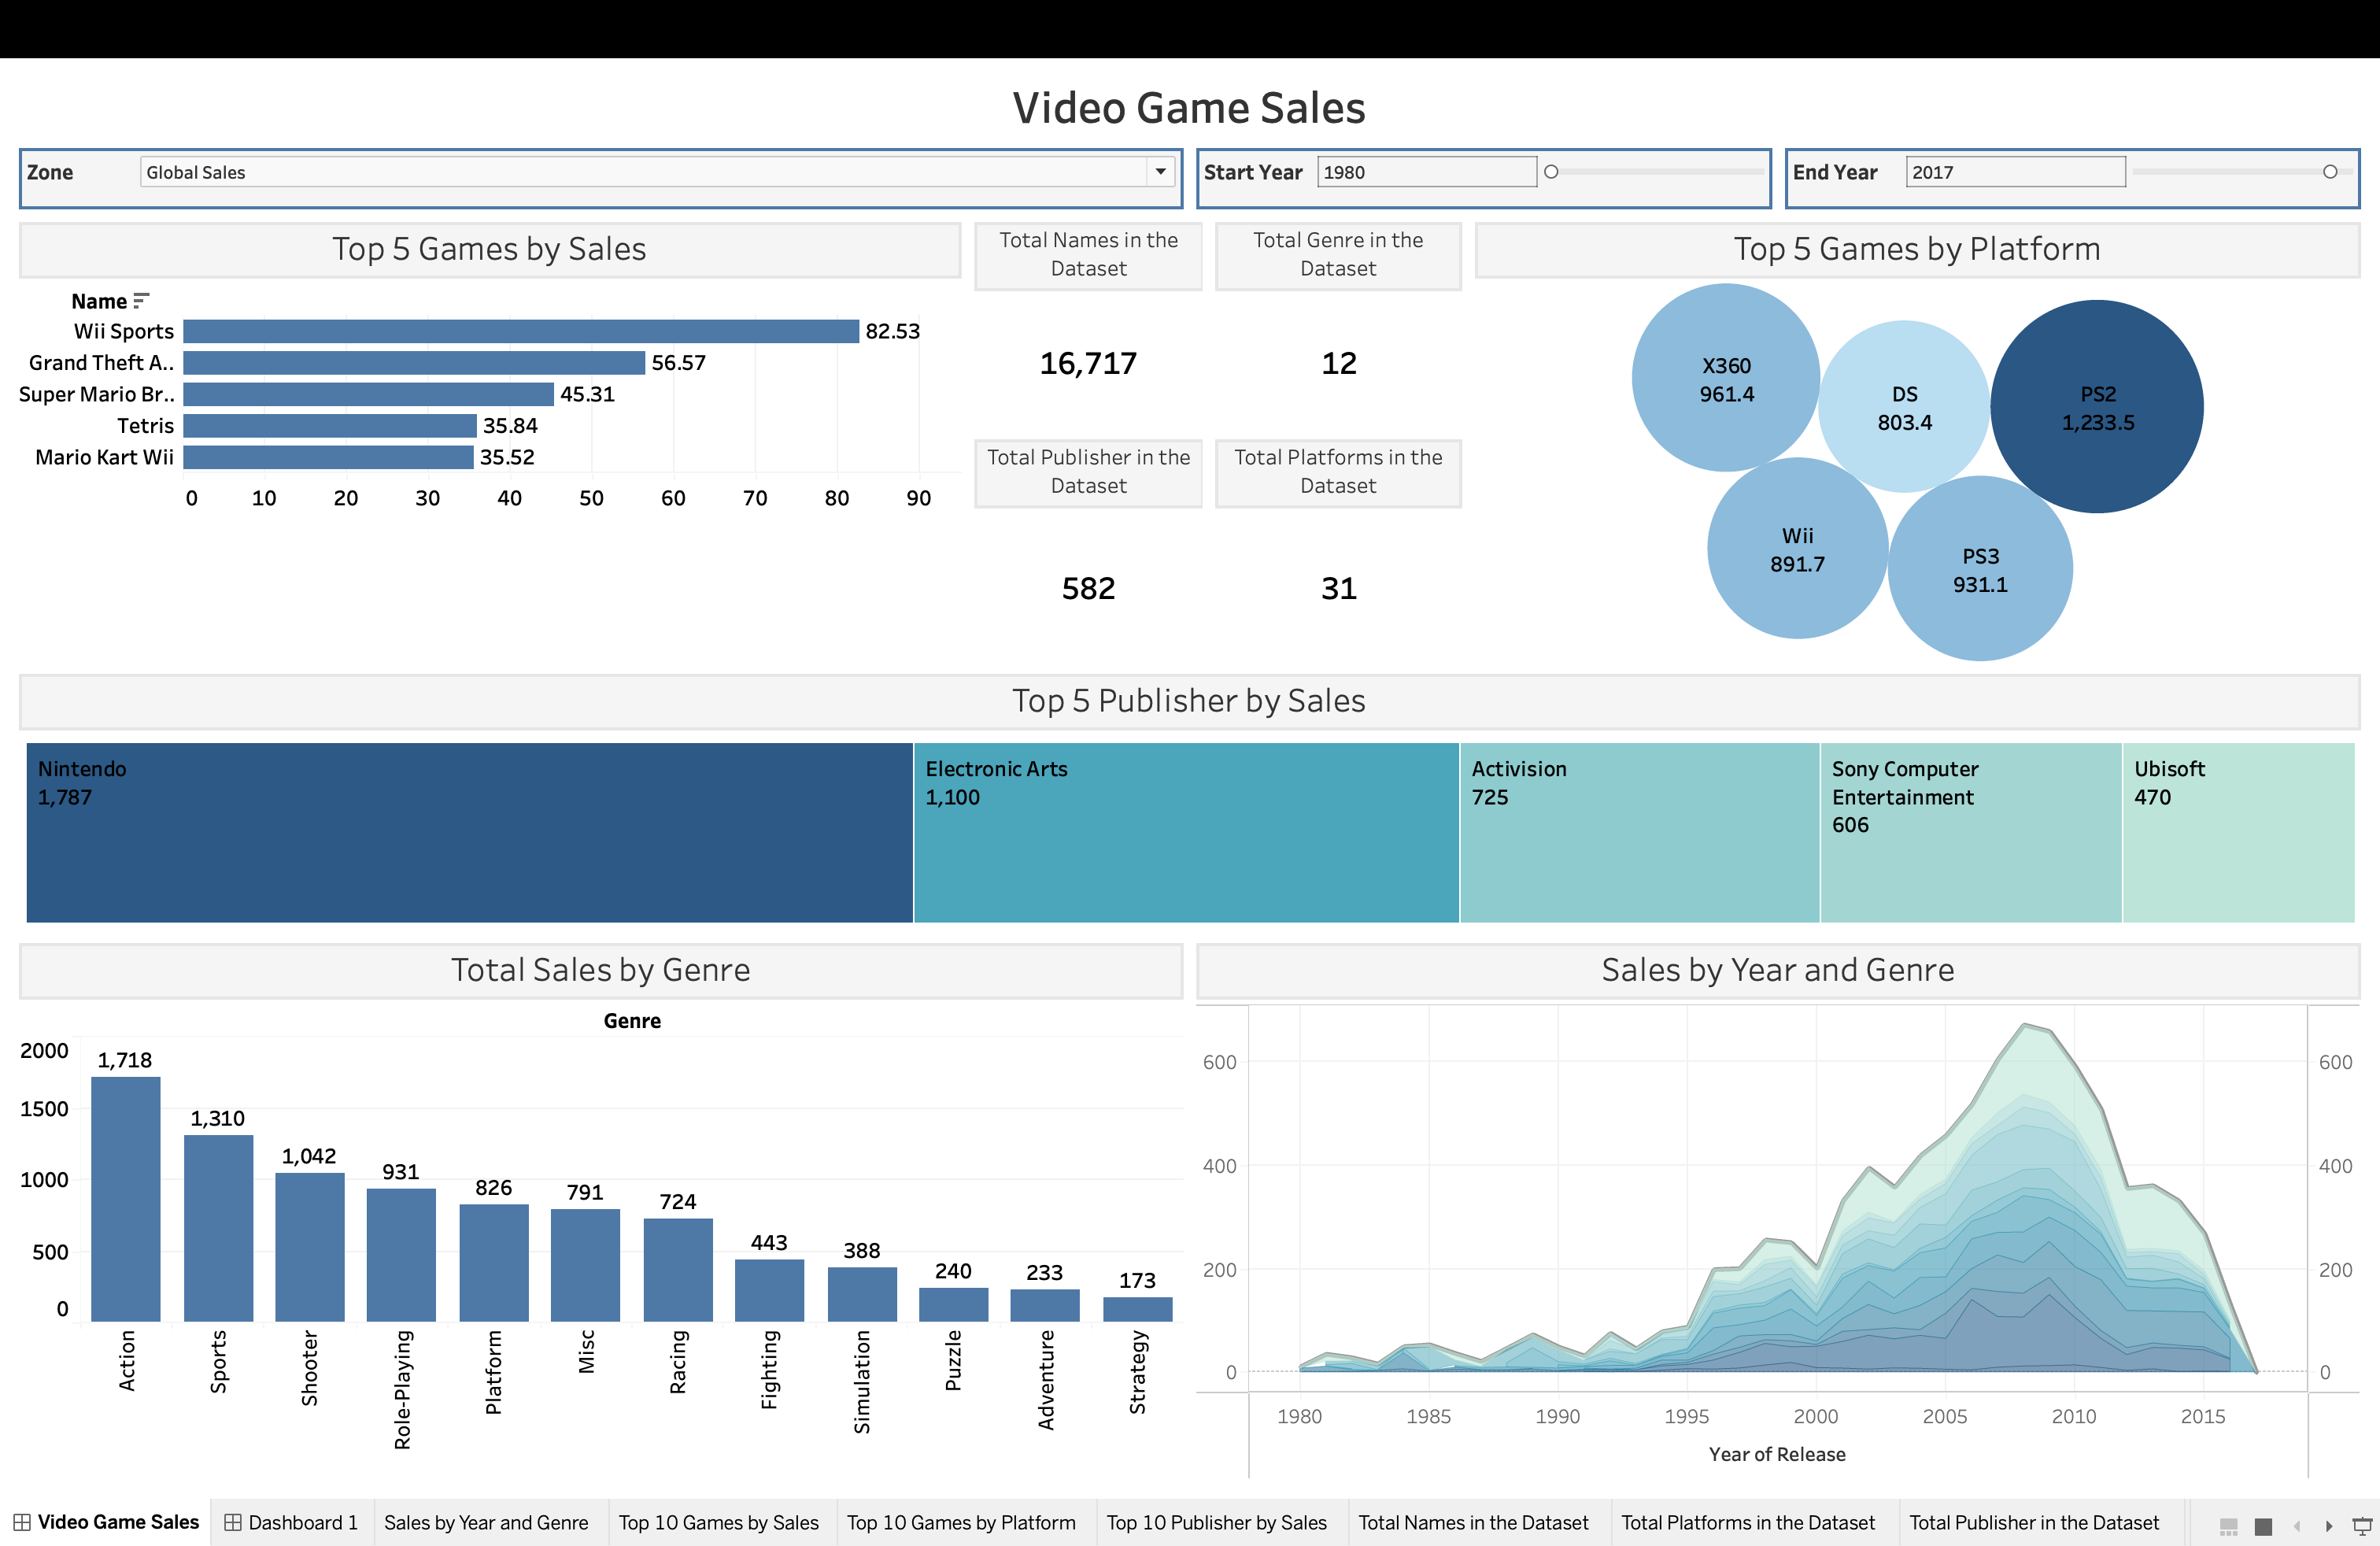

This screenshot's page, from the dashboard's own definition file:
{"tool":"tableau","page":{"name":"Video Game Sales","canvas":[1000,1000],"units":"permille","ordinal":1},"visuals":[{"type":"title","box":[5.4,10.7,989.2,60]},{"type":"parameter","param":"[Parameters].[Parameter 1]","box":[5.4,70.7,494.6,50.8]},{"type":"parameter","param":"[Parameters].[Parameter 2]","box":[499.9,70.7,247.3,50.8]},{"type":"parameter","param":"[Parameters].[Start Year (copy)_781233838186082307]","box":[747.2,70.7,247.4,50.8]},{"type":"worksheet","title":"Top 10 Games by Sales","mark":"Automatic","rows":["Name"],"cols":["Calculation_781233838179803136"],"box":[5.4,121.4,401.1,308.4]},{"type":"worksheet","title":"Total Names in the Dataset","mark":"Automatic","box":[406.4,121.4,101.6,148.2]},{"type":"worksheet","title":"Total Genre in the Dataset","mark":"Automatic","box":[508.1,121.4,109,148.2]},{"type":"worksheet","title":"Top 10 Games by Platform","mark":"Circle","box":[617.1,121.4,377.6,308.4]},{"type":"worksheet","title":"Total Publisher in the Dataset","mark":"Automatic","box":[406.4,269.6,101.6,160.2]},{"type":"worksheet","title":"Total Platforms in the Dataset","mark":"Automatic","box":[508.1,269.6,109,160.2]},{"type":"worksheet","title":"Top 10 Publisher by Sales","mark":"Automatic","box":[5.4,429.8,989.2,184]},{"type":"worksheet","title":"Total Sales by Genre","mark":"Automatic","rows":["Calculation_781233838179803136"],"cols":["Genre"],"box":[5.4,613.8,494.6,375.6]},{"type":"worksheet","title":"Sales by Year and Genre","mark":"Automatic","rows":["Calculation_781233838179803136","Calculation_781233838179803136"],"cols":["Year_of_Release"],"box":[499.9,613.8,494.7,375.6]}]}

Visuals, with their boxes on the dashboard's canvas, which has no fixed pixel size, in thousandths of its width and height (x1, y1, x2, y2). These are canvas units, not pixel positions in the 2380x1546 screenshot, which may show the page scaled, cropped or inside an application window:
title: detection(5, 11, 995, 71)
parameter: detection(5, 71, 500, 122)
parameter: detection(500, 71, 747, 122)
parameter: detection(747, 71, 995, 122)
"Top 10 Games by Sales" worksheet: detection(5, 121, 406, 430)
"Total Names in the Dataset" worksheet: detection(406, 121, 508, 270)
"Total Genre in the Dataset" worksheet: detection(508, 121, 617, 270)
"Top 10 Games by Platform" worksheet (Circle marks): detection(617, 121, 995, 430)
"Total Publisher in the Dataset" worksheet: detection(406, 270, 508, 430)
"Total Platforms in the Dataset" worksheet: detection(508, 270, 617, 430)
"Top 10 Publisher by Sales" worksheet: detection(5, 430, 995, 614)
"Total Sales by Genre" worksheet: detection(5, 614, 500, 989)
"Sales by Year and Genre" worksheet: detection(500, 614, 995, 989)
